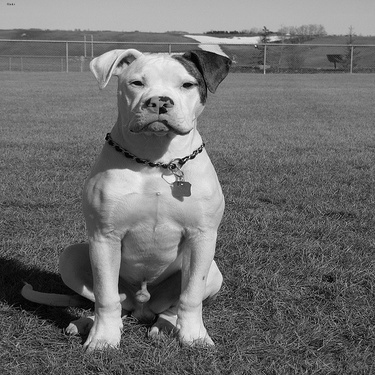dog: (15, 48, 236, 354)
